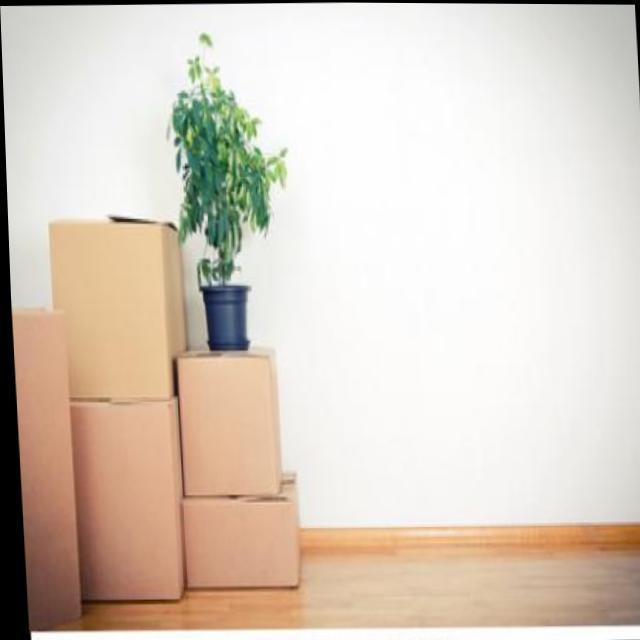box: (66, 398, 180, 597), (12, 312, 81, 632), (48, 220, 179, 378), (172, 354, 278, 491), (176, 489, 302, 589)
